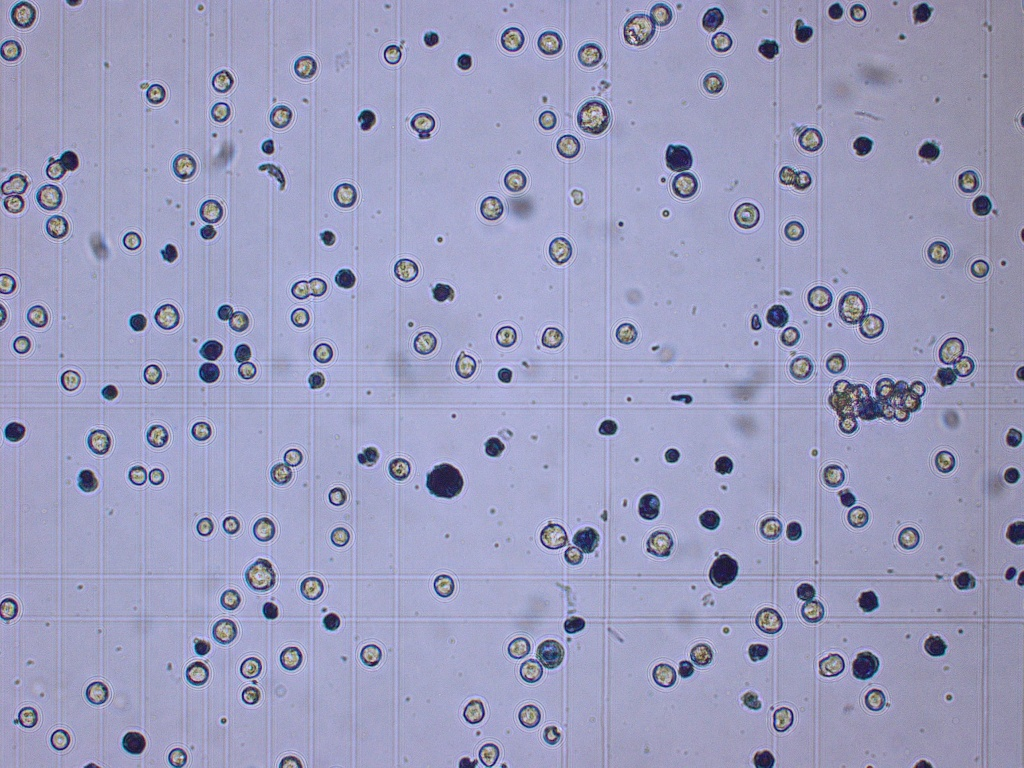Aggregate: (830, 382, 924, 420)
dead: (427, 463, 464, 497), (709, 554, 738, 587), (535, 640, 566, 670), (852, 651, 880, 680), (571, 527, 599, 551), (666, 144, 692, 169), (639, 493, 659, 520), (123, 731, 146, 754), (924, 634, 946, 657), (768, 303, 789, 327), (704, 6, 724, 31), (199, 361, 221, 383), (431, 282, 454, 303), (4, 420, 25, 442), (199, 340, 222, 360), (78, 469, 98, 492), (795, 18, 814, 42), (484, 436, 505, 457), (911, 2, 931, 24), (910, 1, 930, 23), (700, 509, 721, 529), (853, 136, 873, 156), (972, 194, 992, 214), (335, 269, 355, 289), (357, 109, 377, 129), (753, 749, 774, 768), (935, 366, 955, 385), (713, 456, 734, 474), (759, 40, 780, 58), (918, 142, 940, 159), (1006, 521, 1023, 543), (953, 572, 975, 589), (563, 616, 585, 633), (359, 447, 378, 466), (748, 644, 768, 662), (860, 590, 877, 611), (161, 243, 179, 262), (61, 150, 78, 169), (261, 601, 279, 618), (1006, 427, 1022, 446), (100, 383, 119, 399), (235, 344, 251, 362), (676, 661, 694, 677), (600, 419, 617, 435), (323, 613, 340, 629), (130, 314, 146, 331), (797, 582, 814, 598), (1004, 467, 1020, 483), (424, 30, 440, 46), (457, 54, 473, 70), (788, 520, 801, 539), (217, 303, 232, 319), (320, 231, 336, 246), (260, 139, 276, 154), (199, 225, 216, 239), (829, 3, 843, 20), (498, 367, 512, 382), (309, 372, 323, 387), (194, 640, 210, 653), (665, 448, 678, 463), (1005, 565, 1015, 579)
live: (578, 101, 610, 133), (624, 12, 655, 44), (246, 558, 276, 589), (840, 289, 866, 324), (756, 607, 783, 636), (547, 236, 573, 266), (539, 522, 566, 549), (36, 183, 64, 209), (11, 1, 36, 29), (734, 202, 760, 228), (172, 153, 198, 179), (673, 172, 699, 197), (155, 302, 180, 328), (647, 531, 673, 556), (808, 285, 833, 311), (937, 336, 961, 363), (87, 430, 112, 455), (502, 26, 525, 53), (479, 195, 503, 220), (538, 29, 563, 53), (213, 618, 237, 643), (652, 662, 676, 687), (820, 652, 844, 677), (577, 43, 603, 66), (278, 647, 304, 670), (199, 198, 223, 222), (45, 214, 69, 238), (478, 743, 502, 767), (334, 182, 357, 207), (414, 330, 437, 355), (504, 168, 527, 192), (395, 259, 418, 283), (462, 698, 485, 722), (410, 112, 435, 134), (557, 134, 578, 160), (300, 576, 323, 599), (518, 704, 541, 727), (270, 103, 292, 127), (145, 424, 169, 446), (800, 126, 821, 151), (455, 352, 476, 377), (361, 642, 382, 667), (519, 660, 544, 681), (860, 315, 885, 336), (773, 705, 793, 731), (294, 57, 317, 79), (2, 38, 24, 61), (508, 635, 530, 658), (899, 527, 921, 550), (691, 642, 713, 665), (927, 240, 950, 262), (789, 357, 811, 380), (255, 515, 276, 539), (389, 457, 413, 478), (783, 220, 805, 242), (211, 69, 233, 91), (86, 681, 108, 703), (864, 688, 886, 710), (495, 324, 516, 347), (760, 516, 781, 539), (186, 662, 210, 682), (847, 506, 867, 530), (959, 169, 979, 193), (802, 600, 824, 621), (541, 327, 564, 347), (17, 706, 38, 727), (50, 728, 71, 749), (650, 4, 671, 25), (704, 71, 724, 93), (434, 573, 454, 595), (145, 82, 164, 105), (935, 449, 953, 473), (27, 305, 48, 325), (823, 464, 843, 485), (211, 101, 230, 123), (615, 322, 634, 344), (270, 465, 290, 485), (712, 32, 731, 53), (221, 587, 240, 608), (5, 193, 24, 214), (384, 43, 402, 65), (129, 464, 147, 486), (240, 657, 260, 676), (826, 353, 846, 372), (291, 307, 309, 328), (542, 725, 563, 743), (12, 334, 31, 353), (314, 342, 333, 361), (191, 422, 211, 440), (2, 596, 17, 619), (537, 110, 556, 128), (330, 527, 349, 545), (782, 325, 800, 344), (62, 369, 79, 389), (195, 517, 215, 534), (145, 364, 162, 383), (795, 169, 811, 189), (123, 230, 141, 247), (329, 486, 346, 504), (285, 446, 302, 464), (970, 259, 988, 276), (850, 3, 867, 21), (1, 273, 17, 292), (779, 164, 795, 183), (279, 755, 302, 768), (222, 515, 239, 532), (169, 748, 186, 765), (242, 686, 259, 703), (838, 419, 858, 433), (239, 362, 256, 378), (956, 358, 972, 375), (150, 467, 163, 483)
